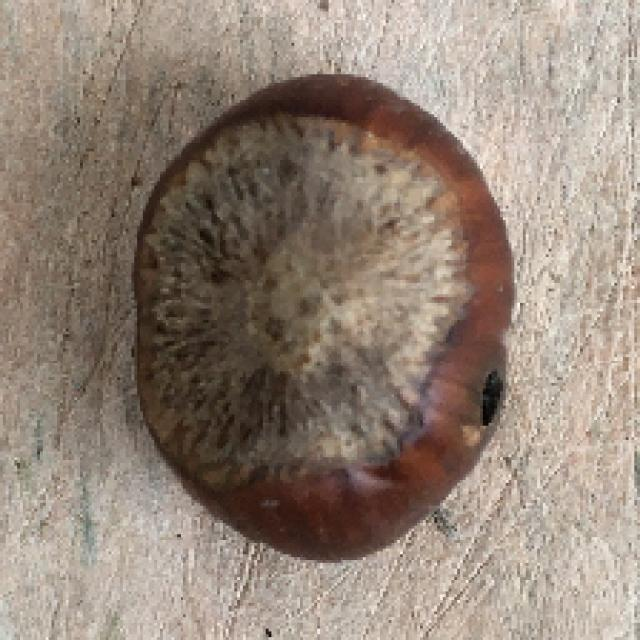damagedHazelnut: (127, 66, 521, 568)
